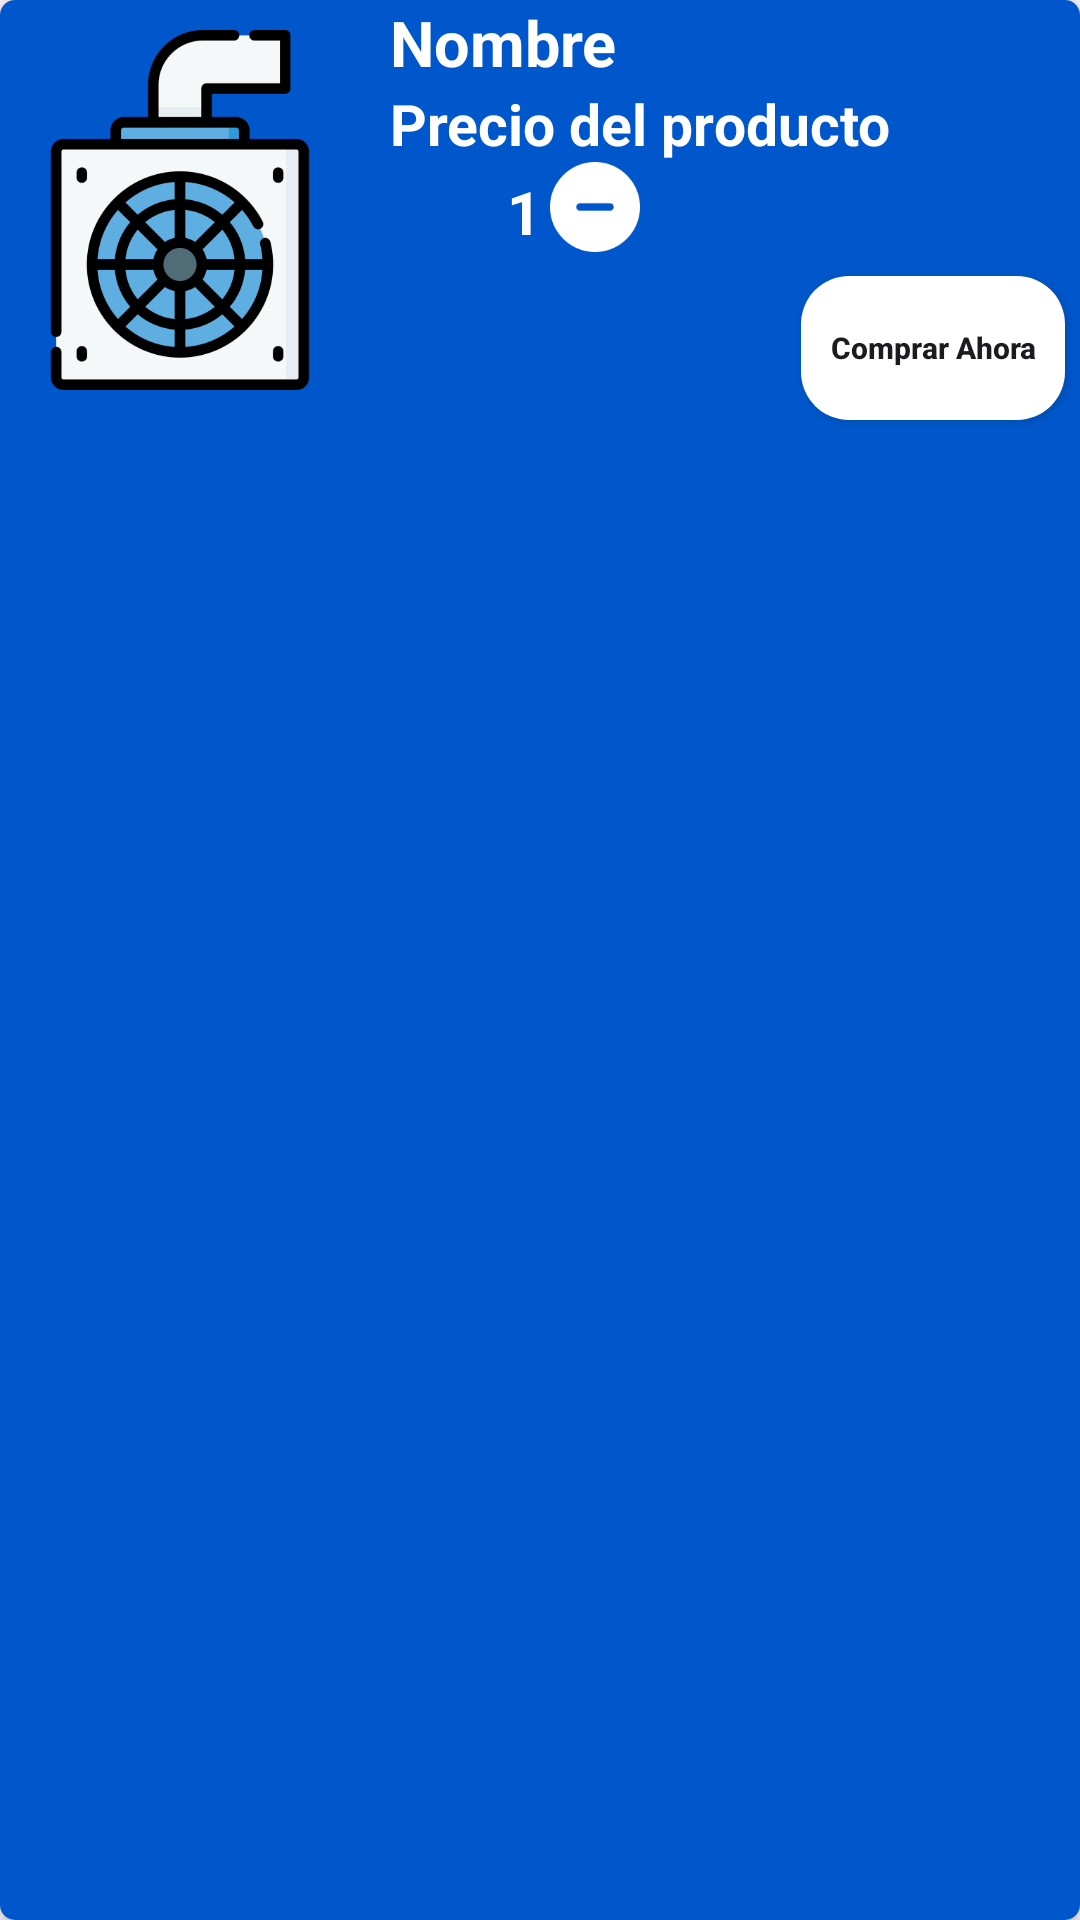

Locate icon controls on the screen. Image size 1080px×1920px, boxes as (x1,y1,x2,y2).
menos: (550,162,640,252)
